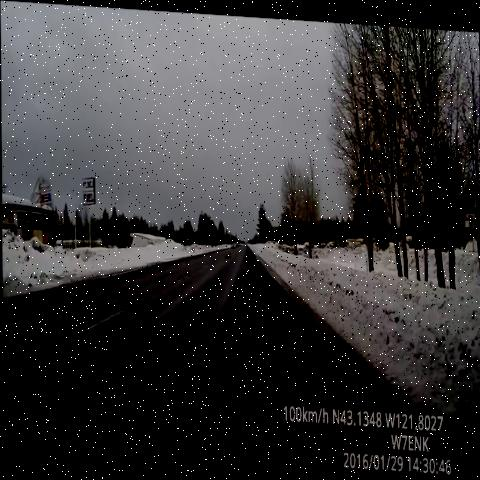pothole: (220, 244, 235, 264)
